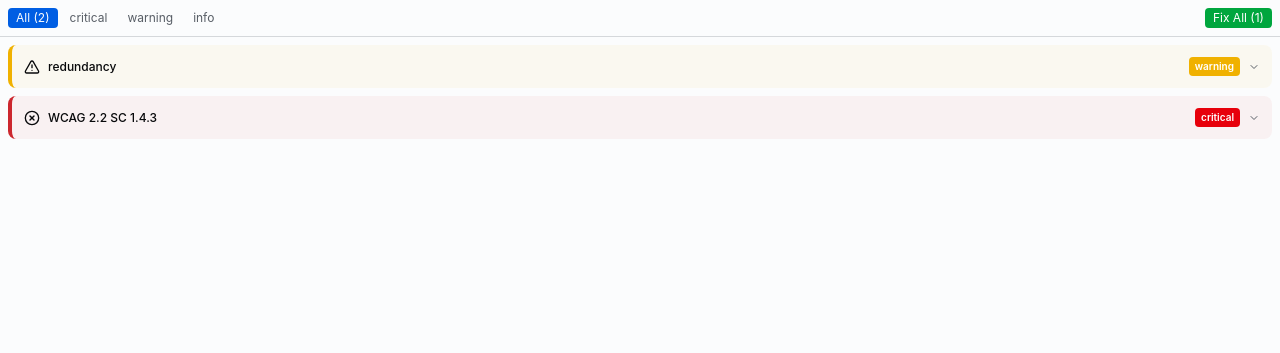
Scenario: FindingsPanel › only one card open at a time
Note: Open first card
What coordinates should you click on to do the following:
click the button "redundancy warning"
I would click on:
 (82, 66)
Its box is [12,45,1272,88].
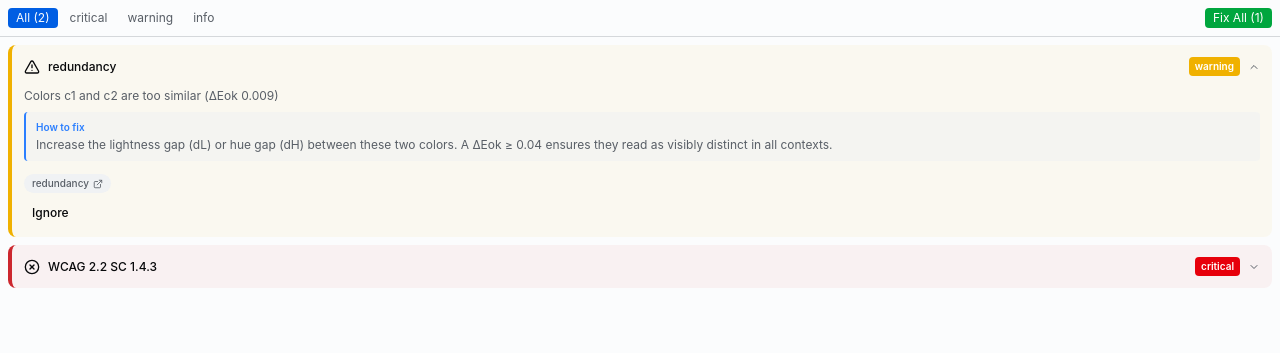
Expected: the text "Colors c1 and c2 are too similar (ΔEok 0.009)" is shown, [24,88,279,103]
Note: Open second card — first should close
What coordinates should you click on to do the following:
click the button "WCAG 2.2 SC 1.4.3 critical"
I would click on:
 (103, 266)
Its box is [12,245,1272,288].
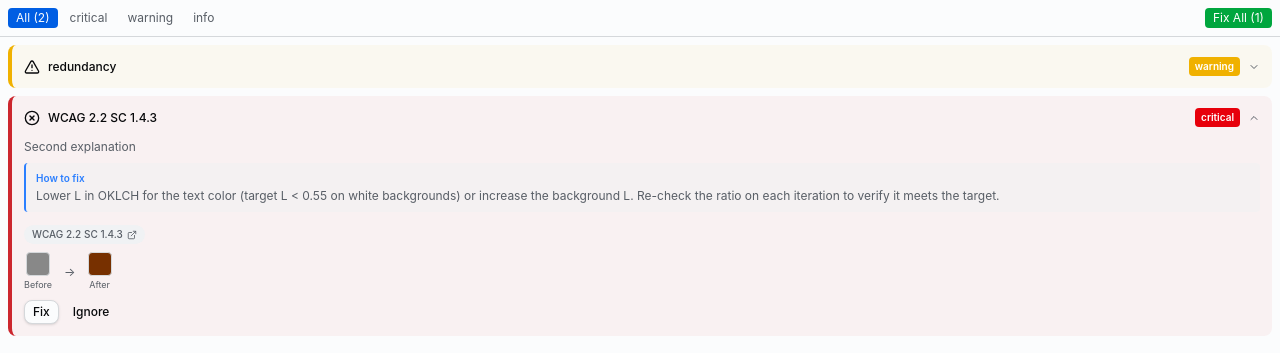
Expected: the text "Colors c1 and c2 are too similar (ΔEok 0.009)" is gone
Expected: the text "Second explanation" is shown, [24,139,136,154]
